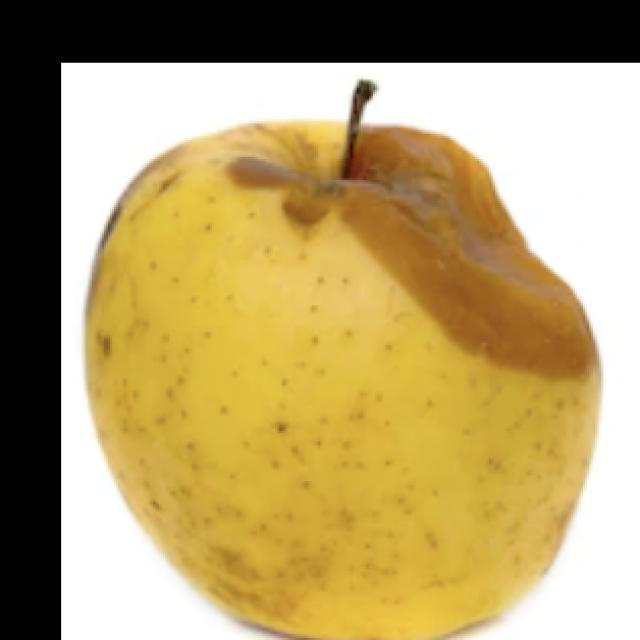Rotten: (118, 128, 605, 635)
